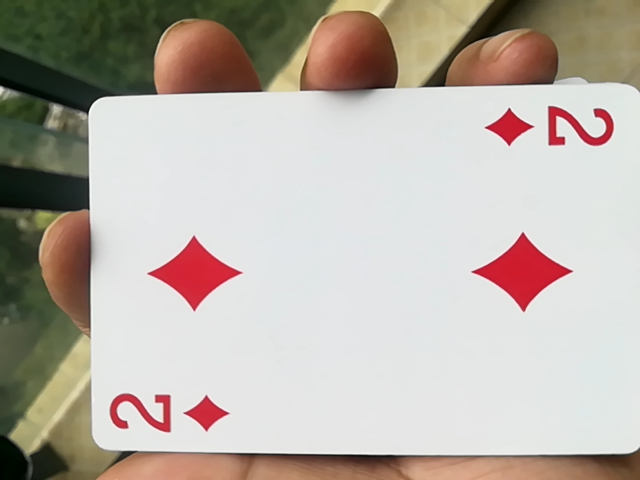fk 2: (70, 92, 636, 468)
